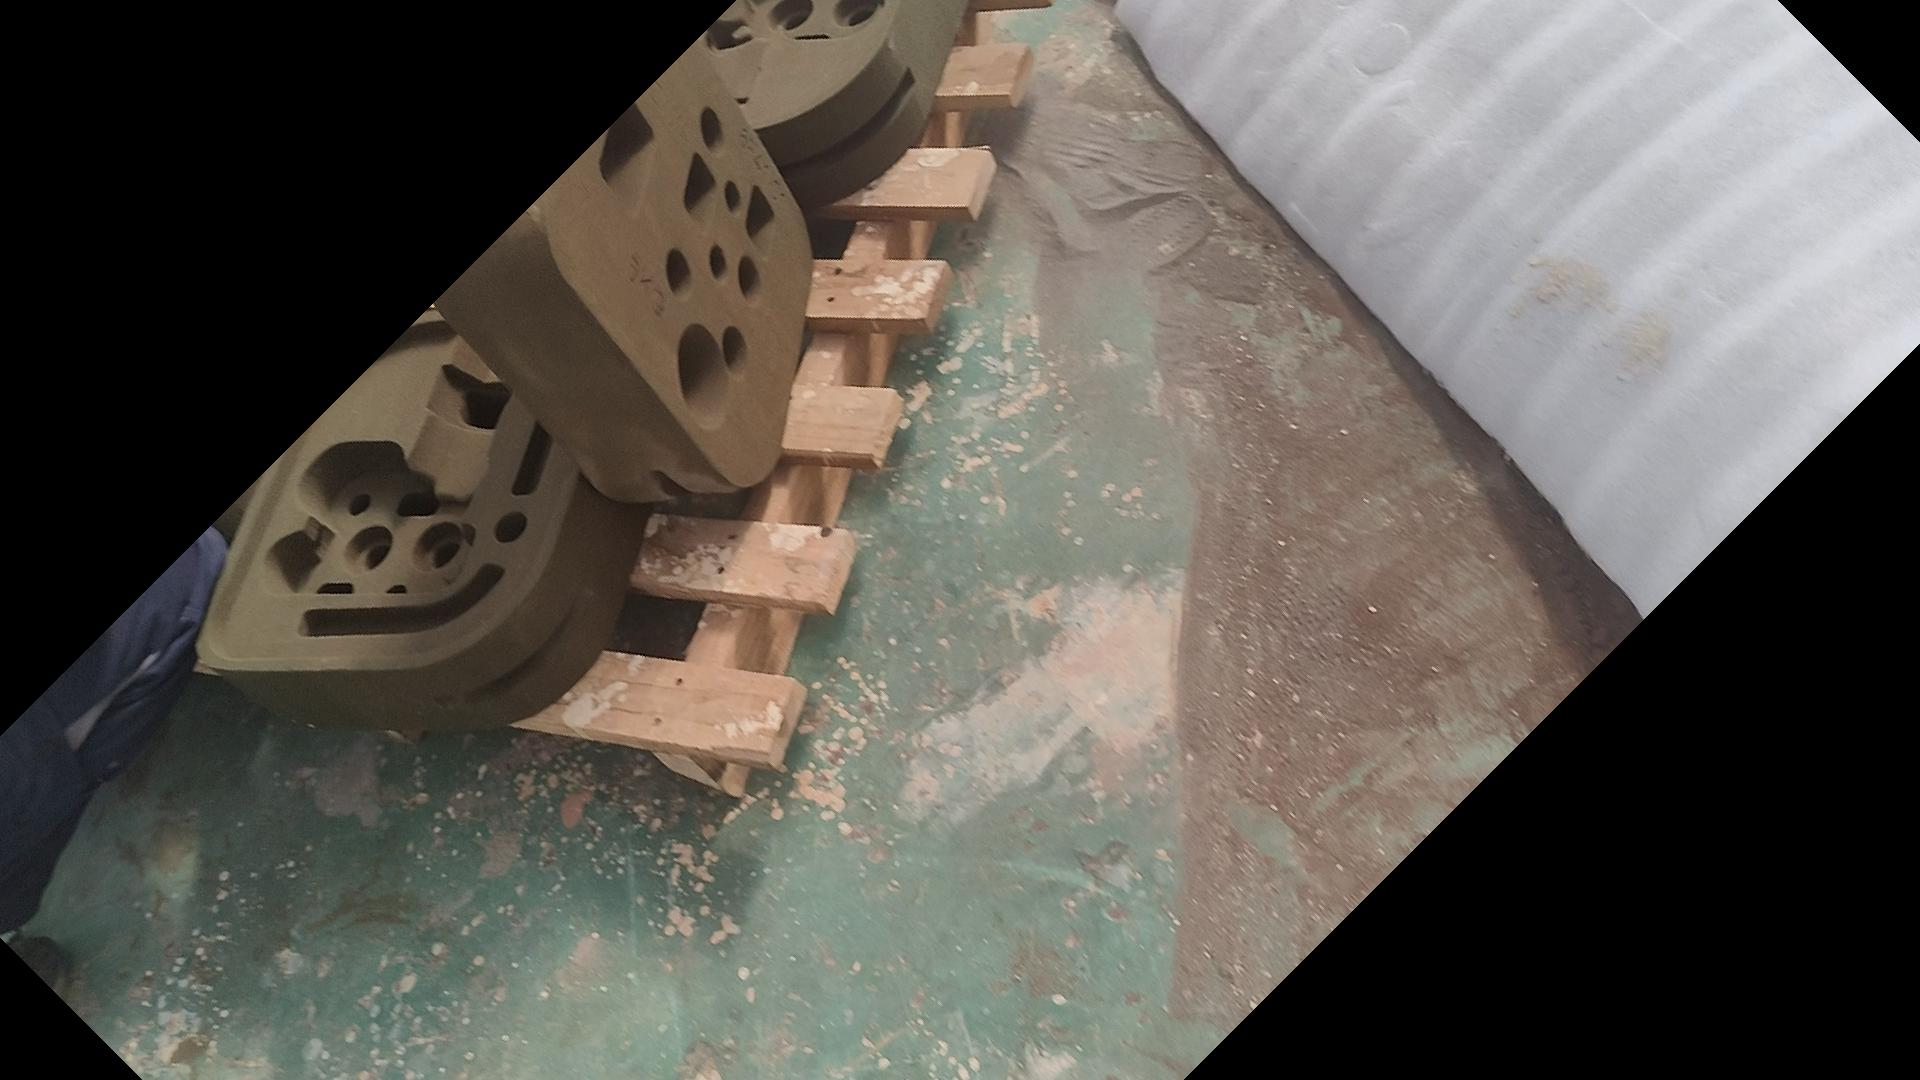pouring hole: (676, 324, 731, 429)
